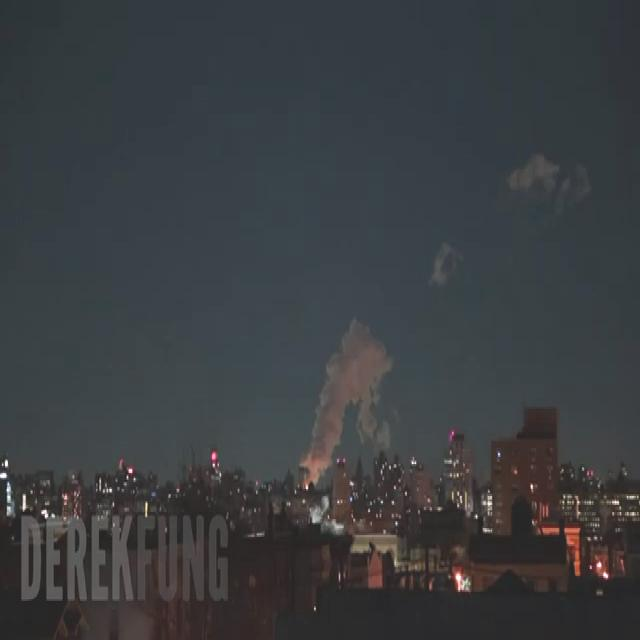smoke: (300, 320, 392, 478)
